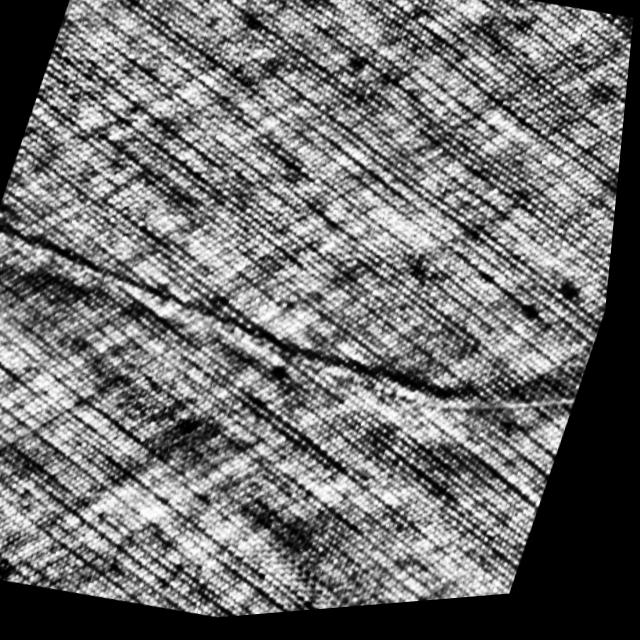Stitch: (0, 175, 621, 482)
